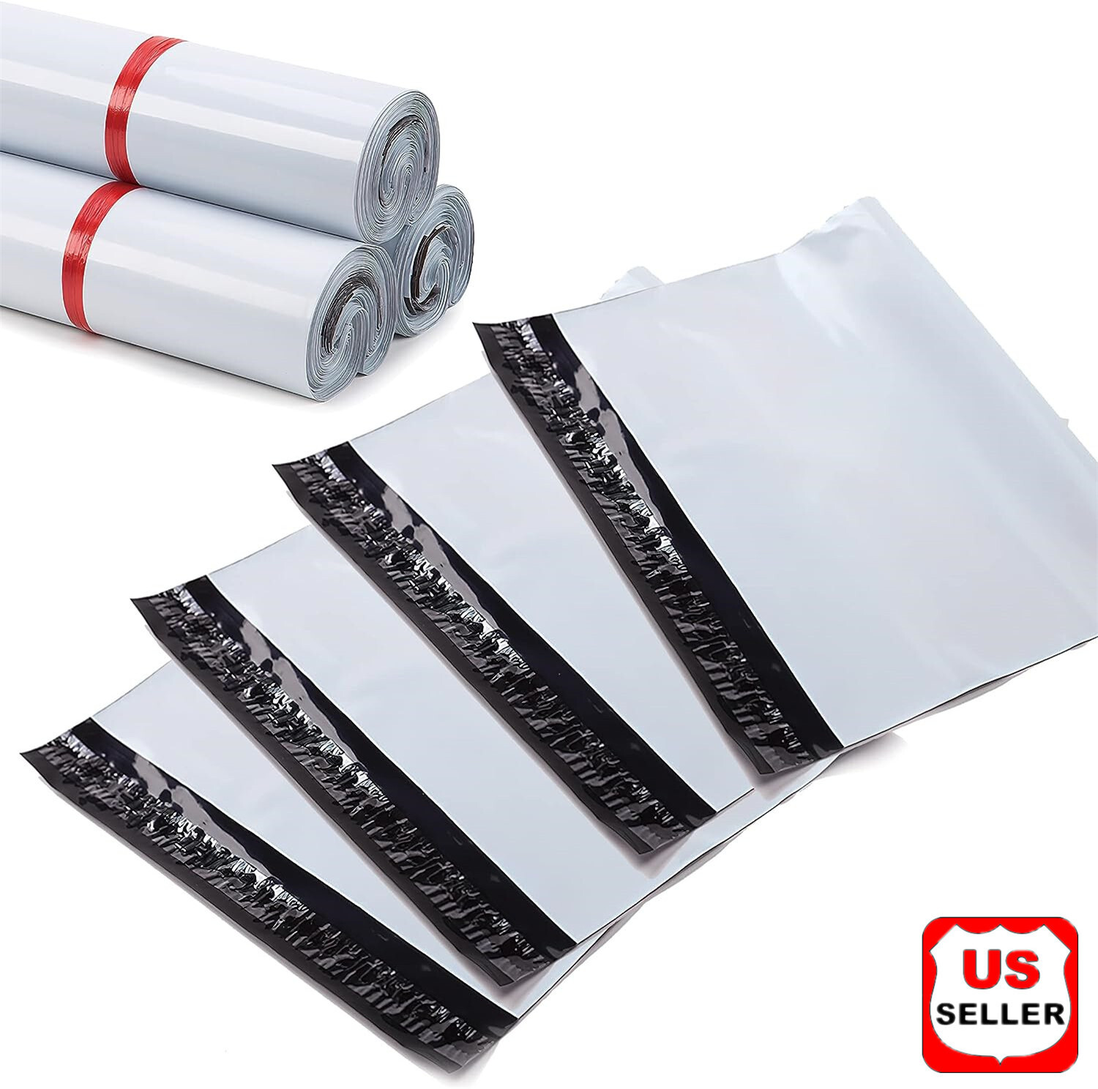Boxes: (0, 0, 474, 401)
Parcel: (30, 215, 1098, 1068)
